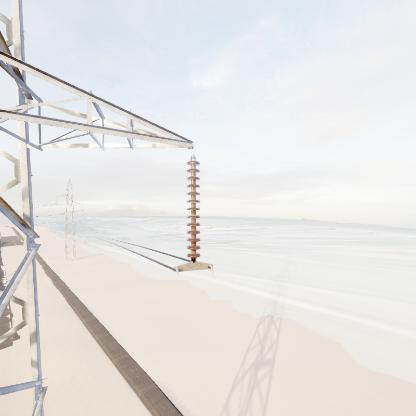insulator: (182, 157, 203, 263)
